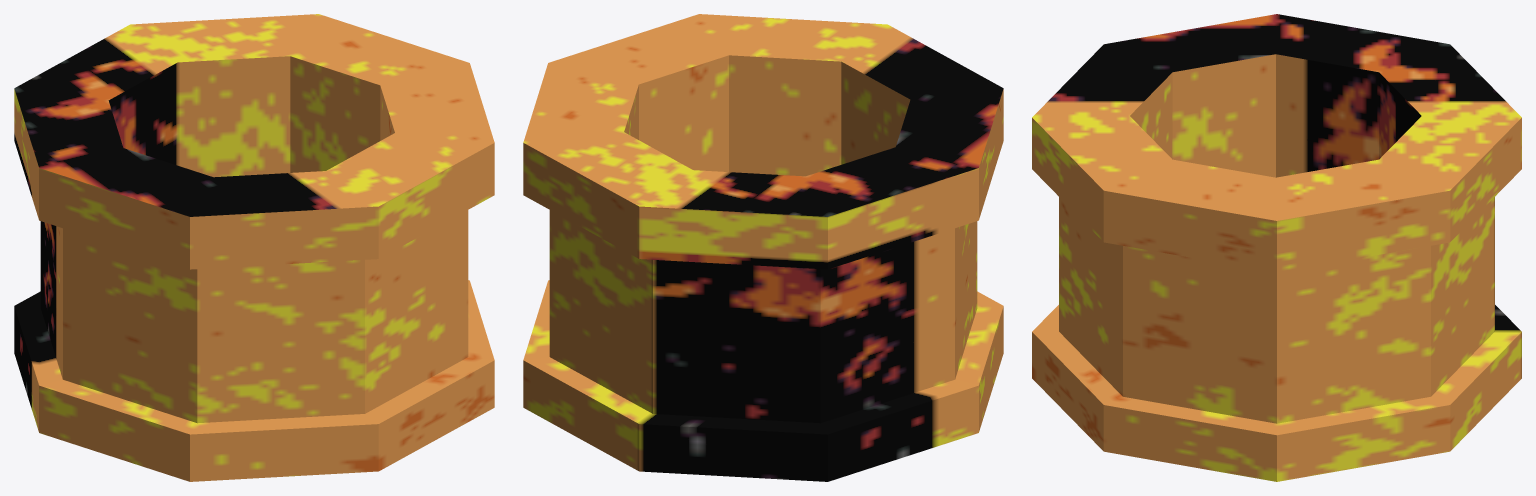
The model's file is LavaRing.fbx.
3 renders of one model, left to right at view 1: azimuth 30°, elevation 25°; view 2: azimuth 150°, elevation 25°; view 3: azimuth 270°, elevation 25°, orthographic.
Visible parts, largest first — view 1: LAVARING; view 2: LAVARING; view 3: LAVARING.
Boxes of the visible parts, x1,y1,x2,y2 form: LAVARING: [14, 14, 494, 481]; LAVARING: [523, 14, 1003, 481]; LAVARING: [1032, 14, 1521, 481].
Bounding box in the file's own units: 22.59 × 13.28 × 22.59.
